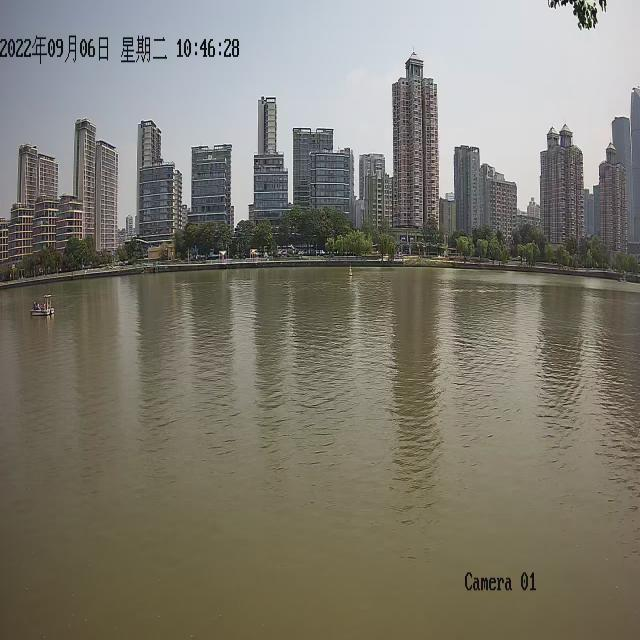ship: (29, 292, 54, 315), (617, 274, 627, 284)
